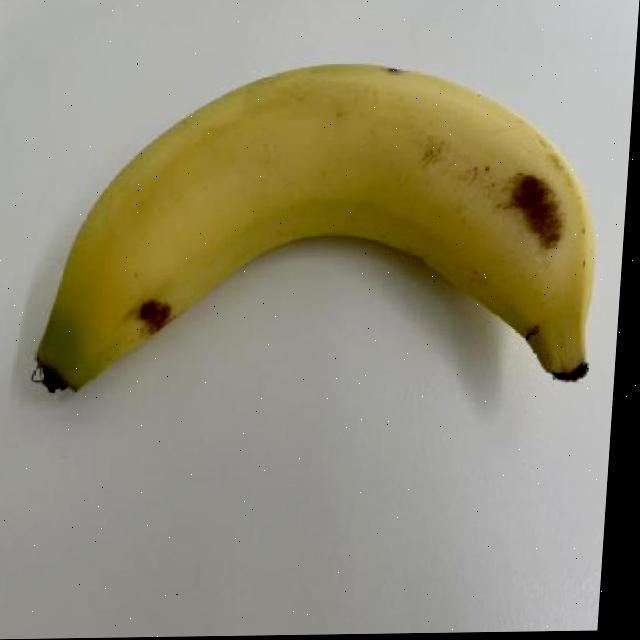banana: (27, 50, 616, 415)
